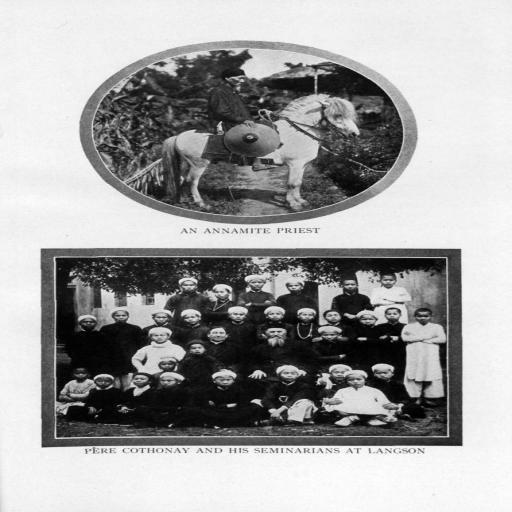horse: (162, 94, 362, 214)
